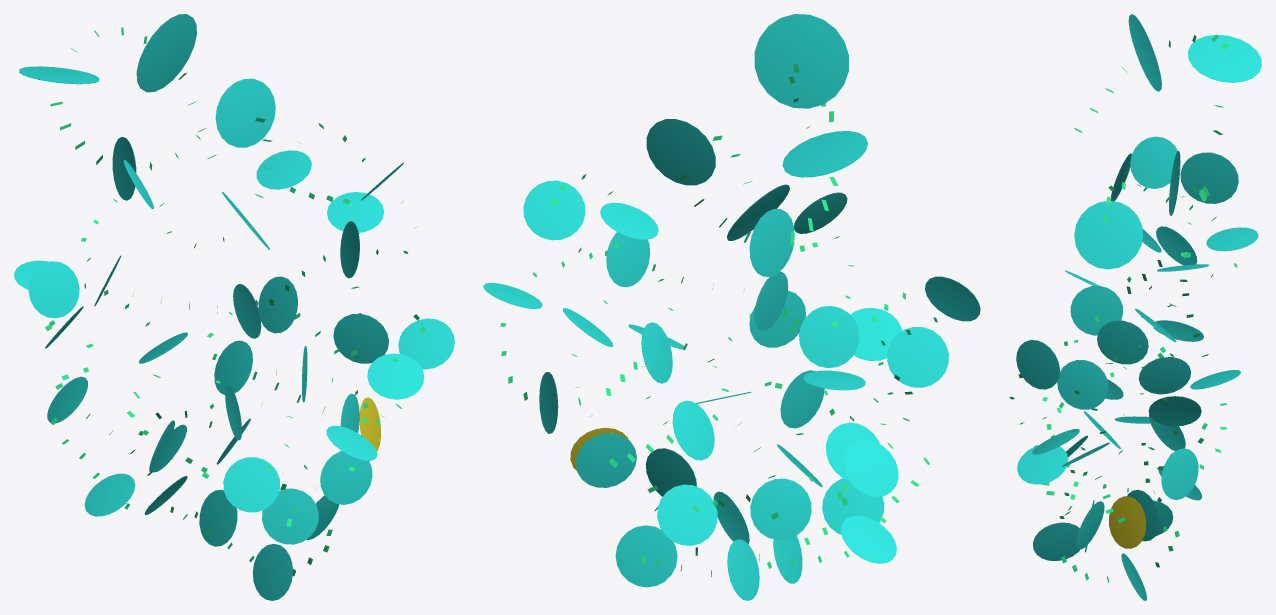
File: VH_F_Sm_Intest_Measurements.fbx
The picture shows the model from 3 angles, left to right: view 1: azimuth 30°, elevation 25°; view 2: azimuth 150°, elevation 25°; view 3: azimuth 270°, elevation 25°; orthographic projection. The views are drawn at different scales.
Visible parts, largest first — view 1: VH_F_disc_at_020_cm, VH_F_disc_at_005_cm, VH_F_cm_markers, VH_F_disc_at_120_cm, VH_F_disc_at_100_cm, VH_F_disc_at_145_cm, VH_F_disc_at_065_cm, VH_F_disc_at_085_cm, VH_F_disc_at_095_cm, VH_F_disc_at_090_cm, VH_F_disc_at_170_cm, VH_F_disc_at_070_cm (+16 smaller); view 2: VH_F_disc_at_005_cm, VH_F_disc_at_020_cm, VH_F_disc_at_130_cm, VH_F_disc_at_155_cm, VH_F_disc_at_175_cm, VH_F_disc_at_035_cm, VH_F_cm_markers, VH_F_disc_at_125_cm, VH_F_disc_at_050_cm, VH_F_disc_at_010_cm, VH_F_disc_at_080_cm, VH_F_disc_at_160_cm (+22 smaller); view 3: VH_F_disc_at_025_cm, VH_F_disc_at_010_cm, VH_F_disc_at_015_cm, VH_F_cm_markers, VH_F_disc_at_115_cm, VH_F_disc_at_030_cm, VH_F_disc_at_040_cm, VH_F_disc_at_045_cm, VH_F_disc_at_110_cm, VH_F_jejunoileal_junction, VH_F_disc_at_070_cm, VH_F_disc_at_065_cm (+16 smaller).
Part boxes in pixels (bbox=[...]): VH_F_disc_at_020_cm: bbox=[215, 78, 275, 147]; VH_F_disc_at_005_cm: bbox=[136, 14, 196, 92]; VH_F_cm_markers: bbox=[45, 27, 425, 576]; VH_F_disc_at_120_cm: bbox=[223, 457, 279, 512]; VH_F_disc_at_100_cm: bbox=[262, 488, 318, 544]; VH_F_disc_at_145_cm: bbox=[28, 261, 79, 318]; VH_F_disc_at_065_cm: bbox=[333, 313, 388, 363]; VH_F_disc_at_085_cm: bbox=[398, 318, 454, 369]; VH_F_disc_at_095_cm: bbox=[320, 451, 372, 504]; VH_F_disc_at_090_cm: bbox=[367, 353, 424, 399]; VH_F_disc_at_170_cm: bbox=[252, 543, 292, 600]; VH_F_disc_at_070_cm: bbox=[258, 276, 297, 333]; VH_F_disc_at_005_cm: bbox=[754, 14, 848, 108]; VH_F_disc_at_020_cm: bbox=[646, 119, 715, 185]; VH_F_disc_at_130_cm: bbox=[750, 478, 811, 540]; VH_F_disc_at_155_cm: bbox=[887, 326, 948, 387]; VH_F_disc_at_175_cm: bbox=[615, 525, 677, 587]; VH_F_disc_at_035_cm: bbox=[799, 306, 859, 367]; VH_F_cm_markers: bbox=[500, 64, 937, 577]; VH_F_disc_at_125_cm: bbox=[657, 484, 717, 545]; VH_F_disc_at_050_cm: bbox=[523, 180, 585, 240]; VH_F_disc_at_010_cm: bbox=[782, 131, 867, 177]; VH_F_disc_at_080_cm: bbox=[575, 433, 636, 487]; VH_F_disc_at_160_cm: bbox=[843, 440, 898, 496]; VH_F_disc_at_025_cm: bbox=[1074, 201, 1143, 269]; VH_F_disc_at_010_cm: bbox=[1188, 34, 1261, 82]; VH_F_disc_at_015_cm: bbox=[1180, 152, 1238, 203]; VH_F_cm_markers: bbox=[1009, 34, 1237, 582]; VH_F_disc_at_115_cm: bbox=[1057, 360, 1108, 409]; VH_F_disc_at_030_cm: bbox=[1130, 136, 1177, 188]; VH_F_disc_at_040_cm: bbox=[1070, 286, 1122, 335]; VH_F_disc_at_045_cm: bbox=[1097, 320, 1148, 364]; VH_F_disc_at_110_cm: bbox=[1016, 340, 1059, 389]; VH_F_jejunoileal_junction: bbox=[1109, 496, 1146, 548]; VH_F_disc_at_070_cm: bbox=[1138, 357, 1190, 394]; VH_F_disc_at_065_cm: bbox=[1161, 448, 1198, 499].
Size of the model in its own units: 16.19 by 21.72 by 9.56.
